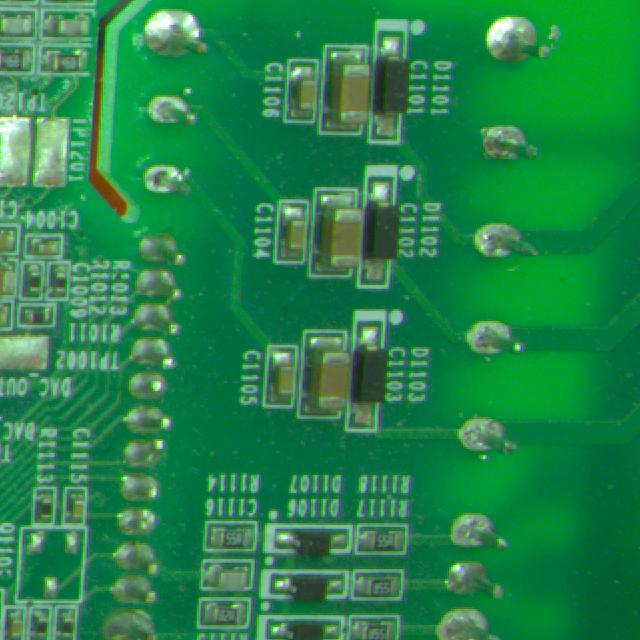Insufficient solder: (477, 119, 537, 196), (459, 217, 529, 270), (464, 309, 519, 366), (455, 404, 505, 465), (452, 503, 498, 558), (137, 163, 200, 202), (146, 94, 198, 139)
